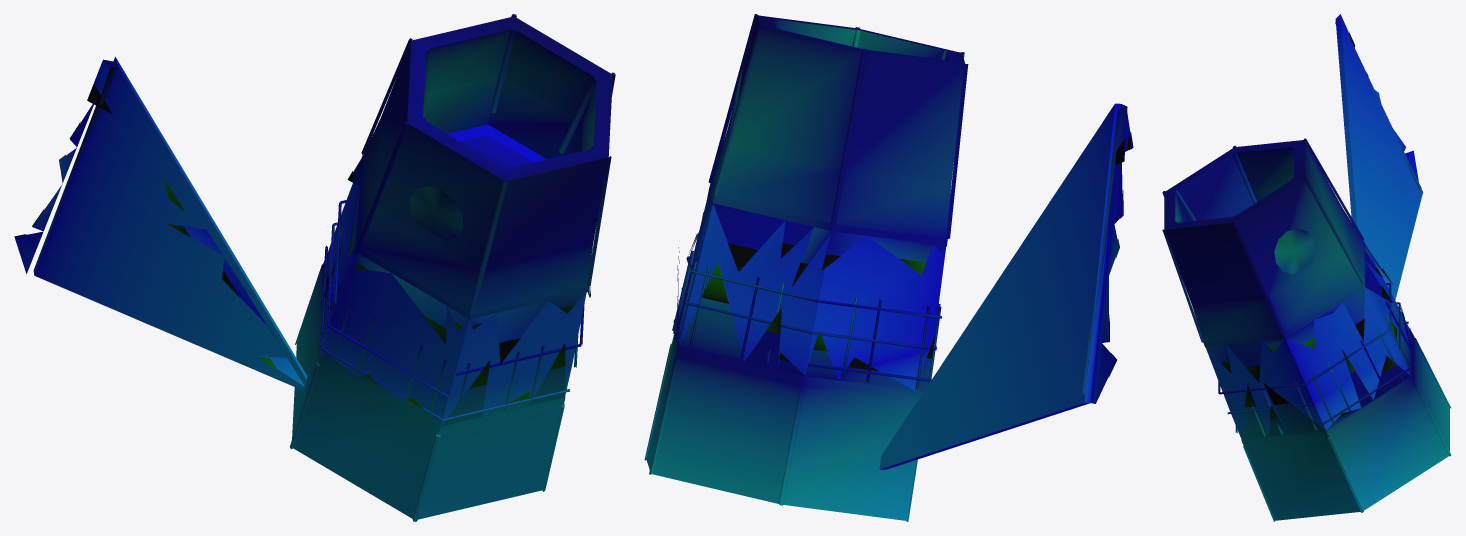
The model's file is crashengine.glb.
3 renders of one model, left to right at view 1: azimuth 30°, elevation 25°; view 2: azimuth 150°, elevation 25°; view 3: azimuth 270°, elevation 25°, orthographic. The views are drawn at different scales.
Parts seen in each view (by area): view 1: lod0; view 2: lod0; view 3: lod0.
Boxes of the visible parts, box(x1,y1,x2,y2) form: lod0: box(14, 14, 615, 521); lod0: box(644, 14, 1133, 521); lod0: box(1162, 14, 1451, 521).
Size of what is drawn, in the model's own units: 25.31 by 23.94 by 17.17.
